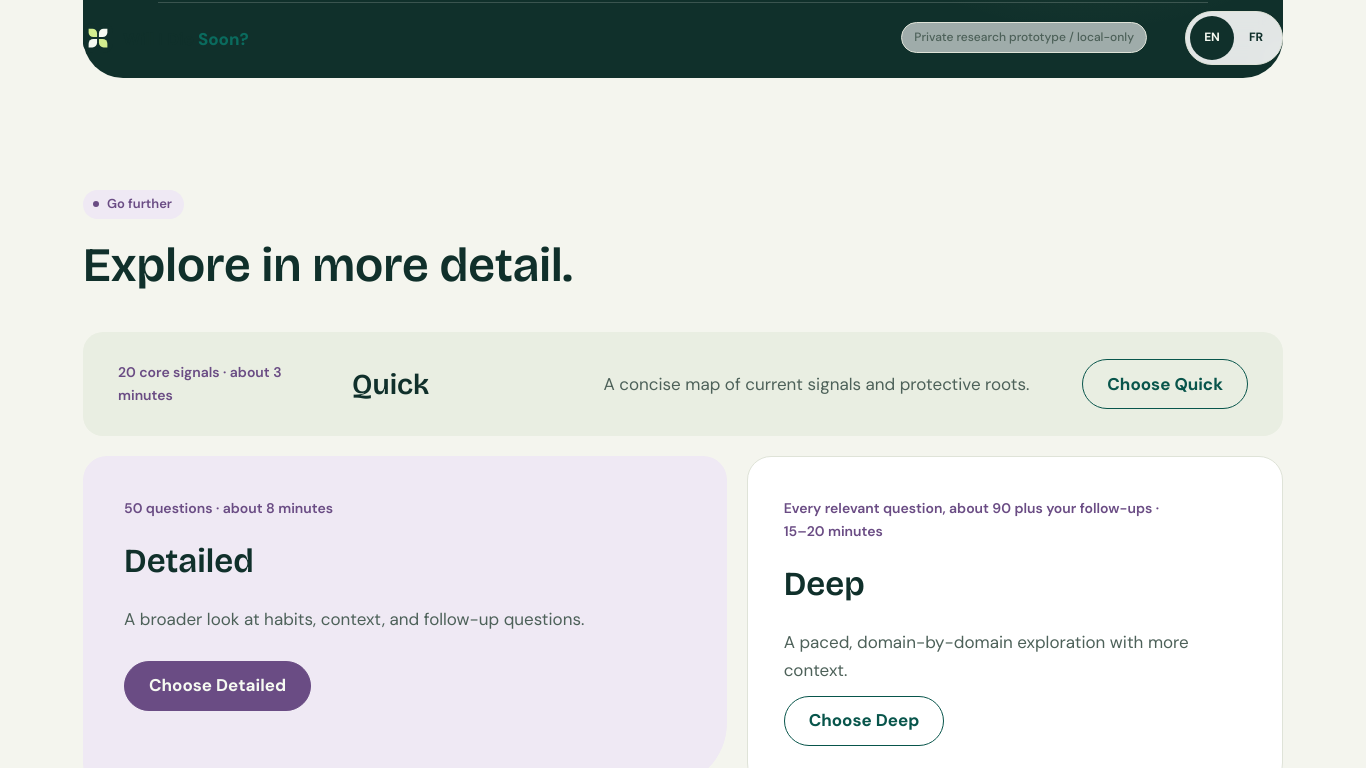
Test: requires consent and a profile before showing health questions
The image size is (1366, 768).
(page scrolled)
Click the button "Choose Quick" at (1165, 384), box left=1082, top=359, right=1248, bottom=409
(page scrolled)
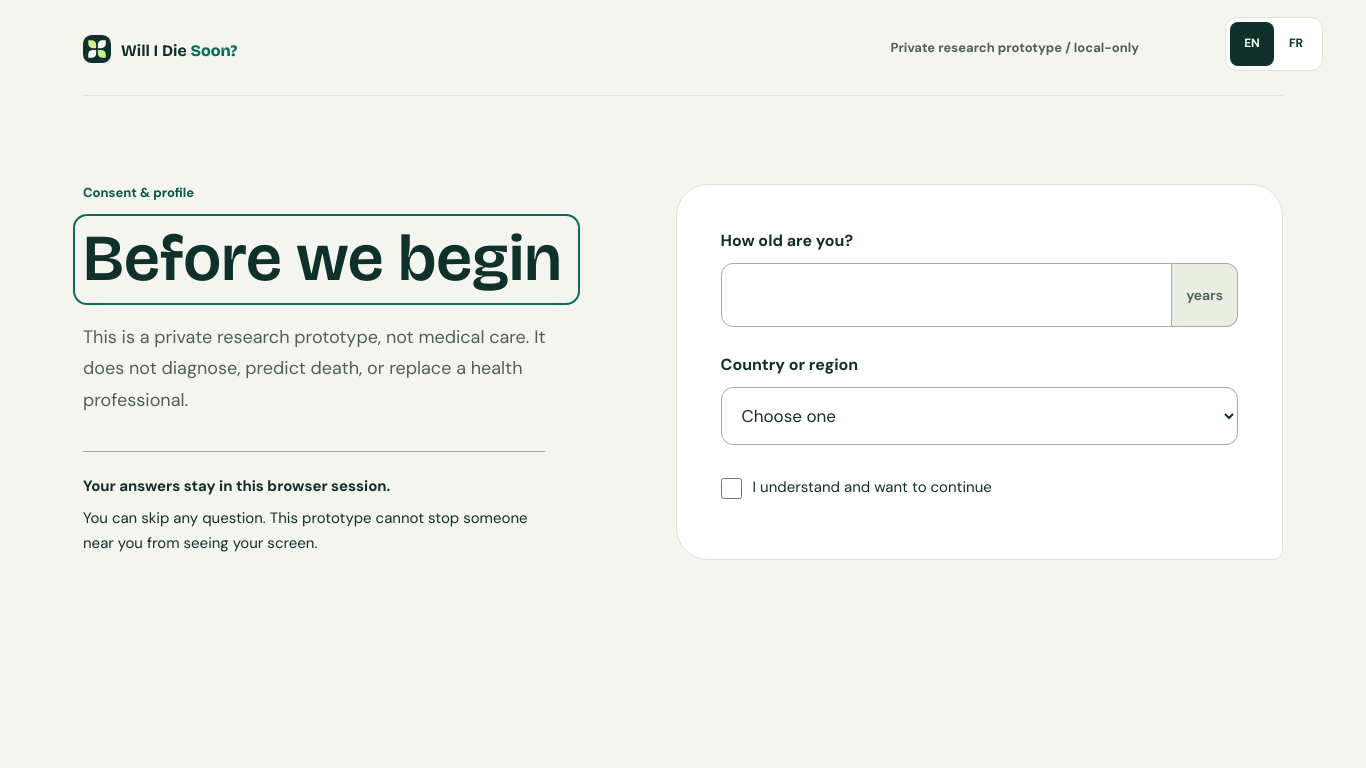
expect the heading "Before we begin" is shown: met, box left=83, top=224, right=570, bottom=295
expect the number field labelled "How old are you?" is shown: met, box left=721, top=263, right=1172, bottom=327
